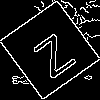Z: (25, 25, 77, 80)
